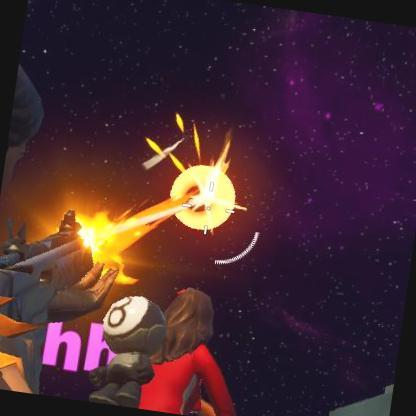person: (87, 275, 268, 416)
